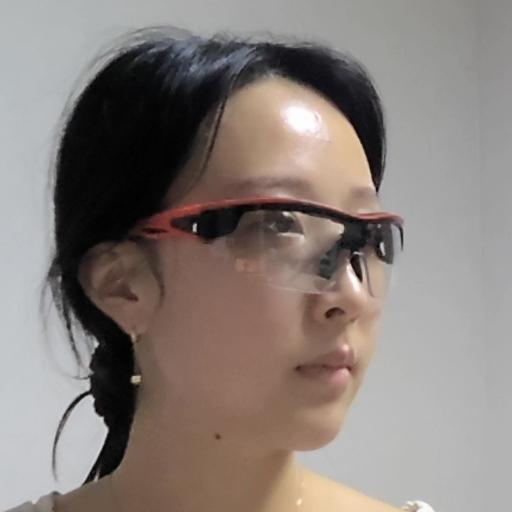glasses: (38, 30, 405, 460)
